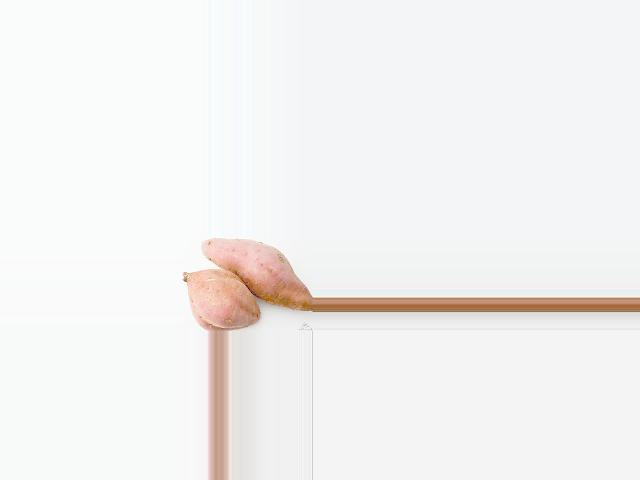sweet_potato: (181, 274, 256, 323)
